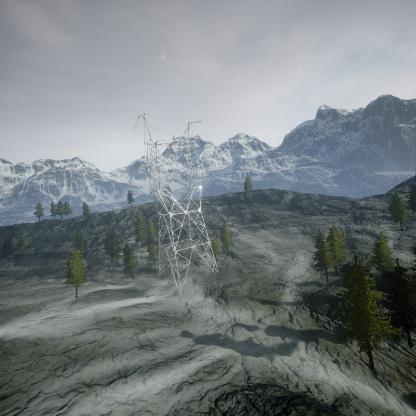tower: (129, 108, 222, 293)
